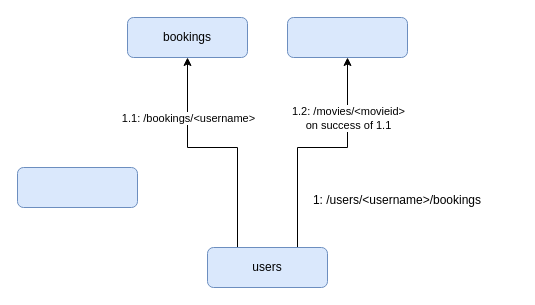
The diagram is 535 pixels wide and 305 high, and some of its shapes have lost their labels. Here are the shapes that lost their labels. From the top down, the box of each, then its label:
(286, 16, 408, 58): movies
(16, 166, 138, 208): showtimes
